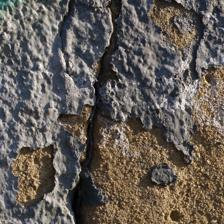Crack: (66, 4, 126, 220)
